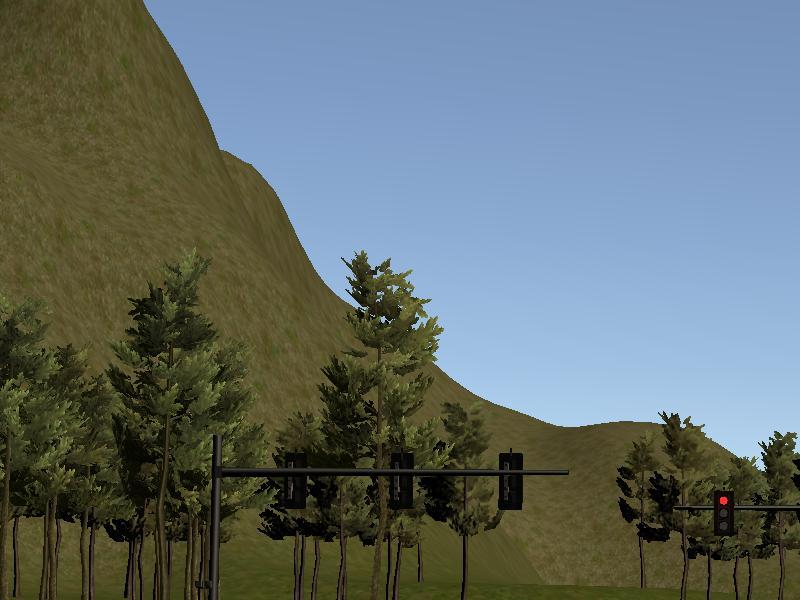Red: (714, 489, 734, 535)
